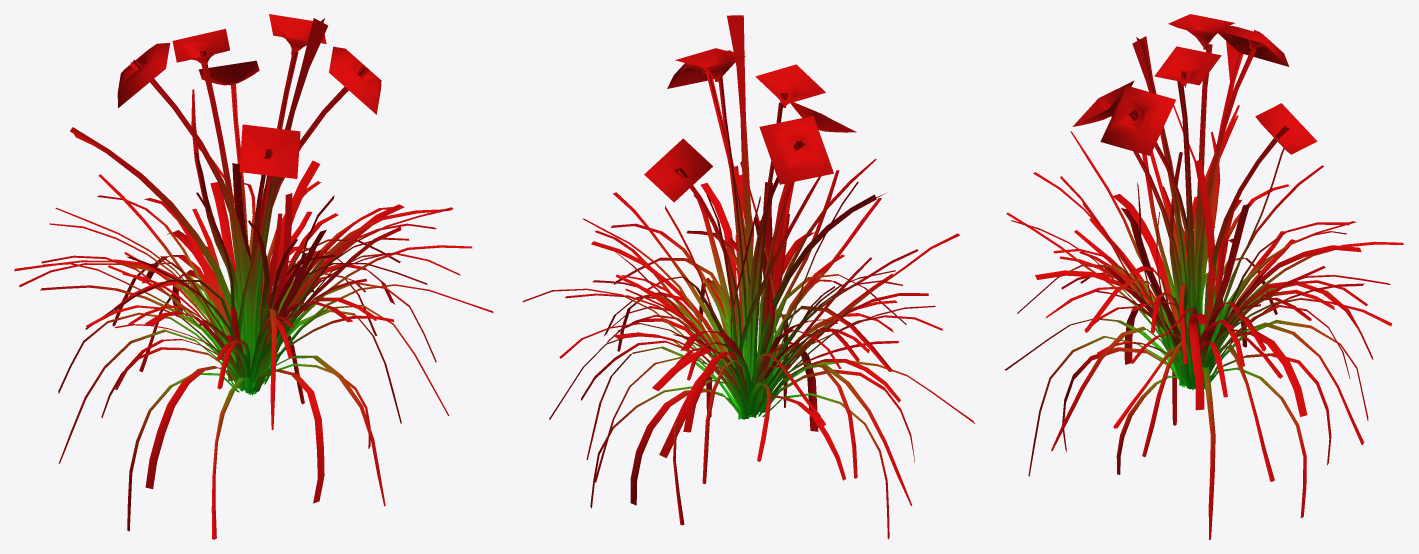
Rendered from White Windflower_LOD1_Var1_sktlN.fbx.
The picture shows the model from 3 angles, left to right: view 1: azimuth 30°, elevation 25°; view 2: azimuth 150°, elevation 25°; view 3: azimuth 270°, elevation 25°; orthographic projection. The views are drawn at different scales.
Parts seen in each view (by area): view 1: _ef0e_Var1_LOD1; view 2: _ef0e_Var1_LOD1; view 3: _ef0e_Var1_LOD1.
Part boxes in pixels (bbox=[...]): _ef0e_Var1_LOD1: bbox=[14, 14, 493, 539]; _ef0e_Var1_LOD1: bbox=[522, 15, 974, 539]; _ef0e_Var1_LOD1: bbox=[1004, 14, 1403, 539].
Bounding box in the file's own units: 83.09 × 95.52 × 73.61.
